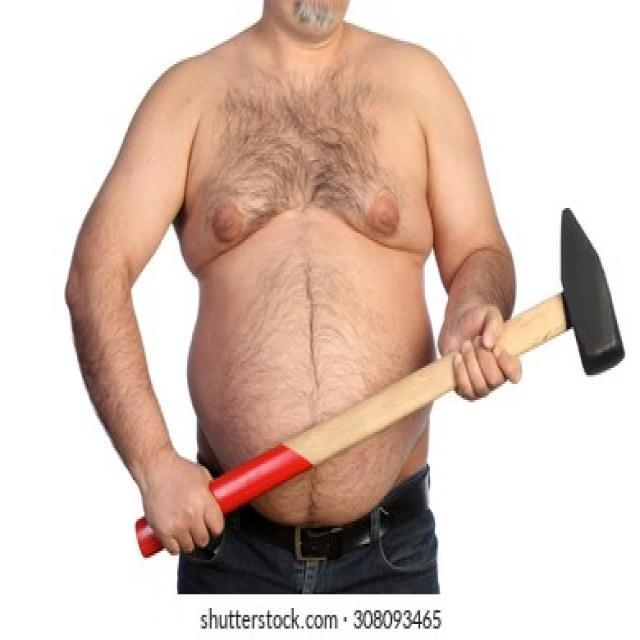hammer: (123, 201, 634, 567)
